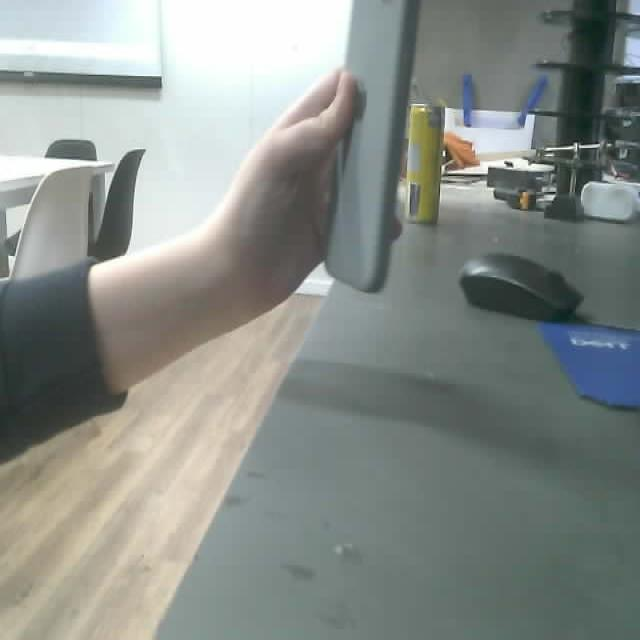phone: (326, 0, 426, 295)
